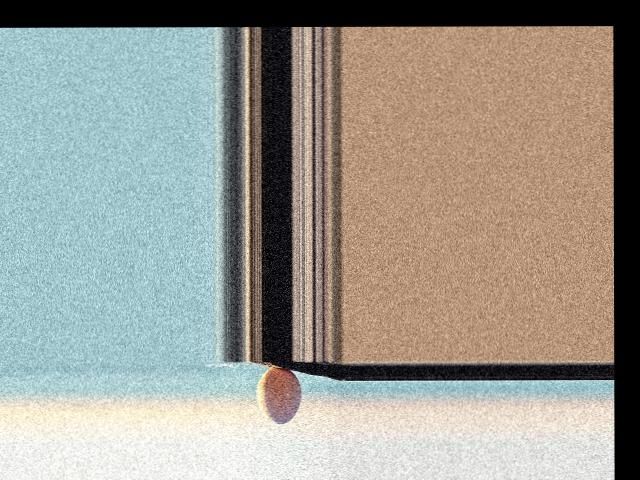egg: (255, 367, 301, 424)
